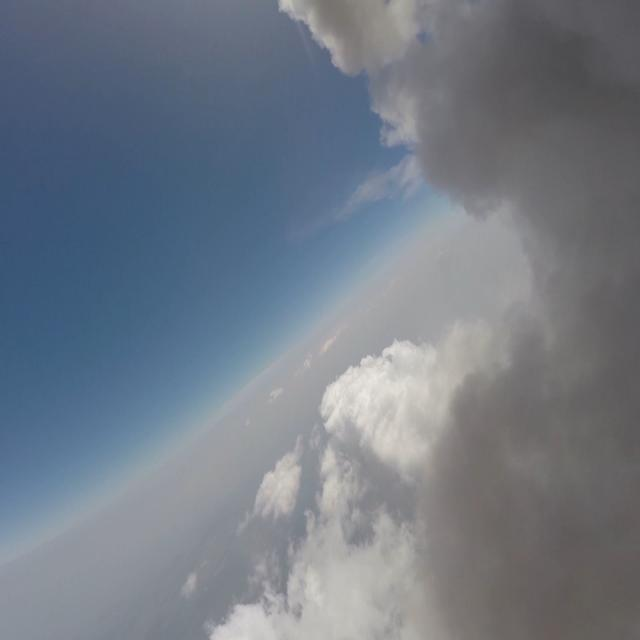Plume: (361, 1, 640, 637)
